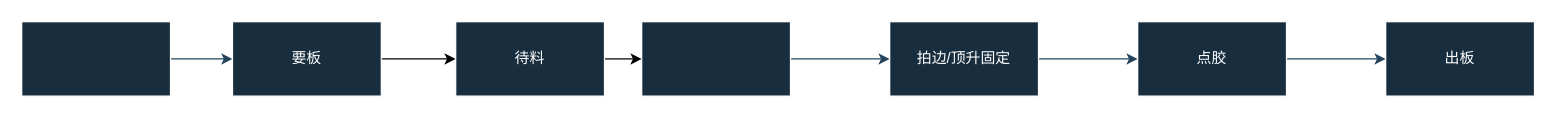
Some shapes in this 1556 by 118 pixel diagram are drawn without their labels. The box of each missing label's shape, as (x1, y1, x2, y2) in pixels:
初始化: (20, 20, 170, 96)
等待产品到位: (640, 20, 790, 96)
